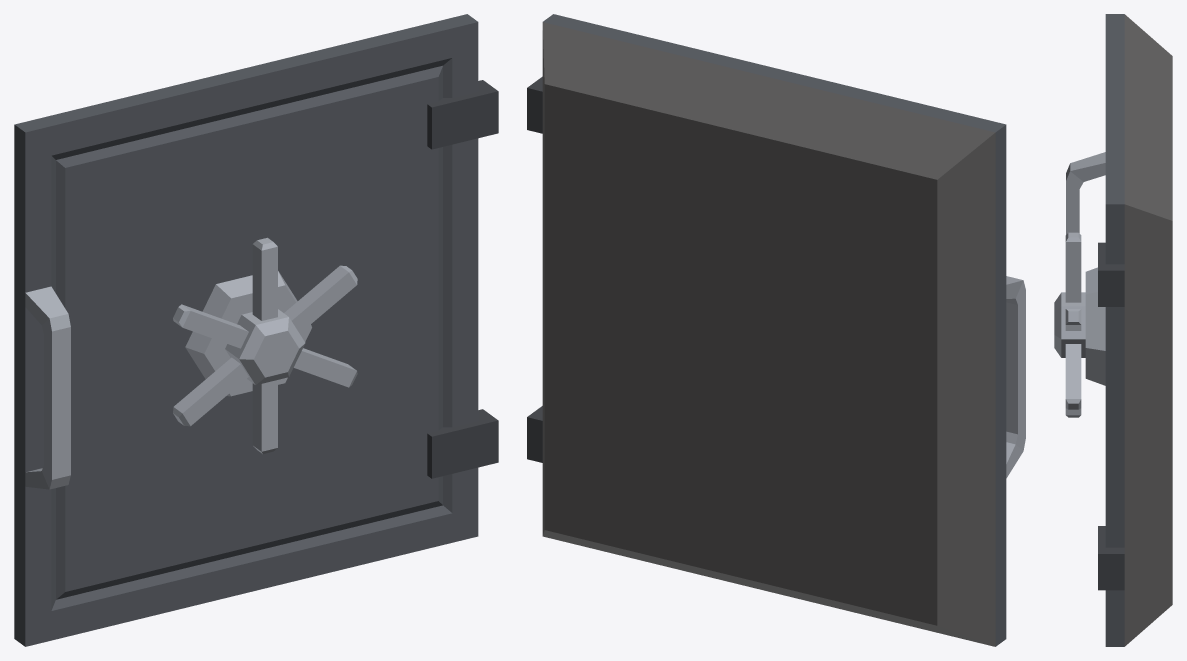
The model's file is SM_Prop_Safe_Door_01_1261.obj.
The picture shows the model from 3 angles, left to right: view 1: azimuth 30°, elevation 25°; view 2: azimuth 150°, elevation 25°; view 3: azimuth 270°, elevation 25°; orthographic projection. The views are drawn at different scales.
Visible parts, largest first — view 1: SM_Prop_Safe_Door_01_0; view 2: SM_Prop_Safe_Door_01_0; view 3: SM_Prop_Safe_Door_01_0.
Boxes of the visible parts, box(x1,y1,x2,y2) form: SM_Prop_Safe_Door_01_0: box(14, 14, 498, 646); SM_Prop_Safe_Door_01_0: box(527, 14, 1025, 646); SM_Prop_Safe_Door_01_0: box(1054, 14, 1172, 646).
Bounding box in the file's own units: 0.4528 × 0.4752 × 0.1152.
1 material, 1 textured.
